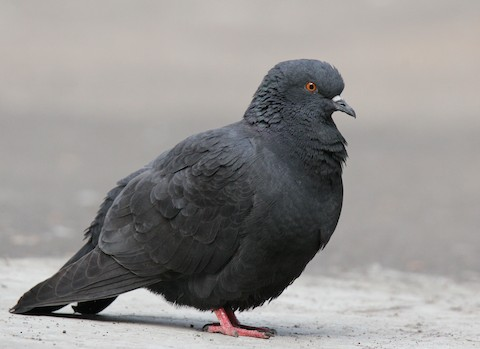pigeon: (7, 55, 362, 340)
